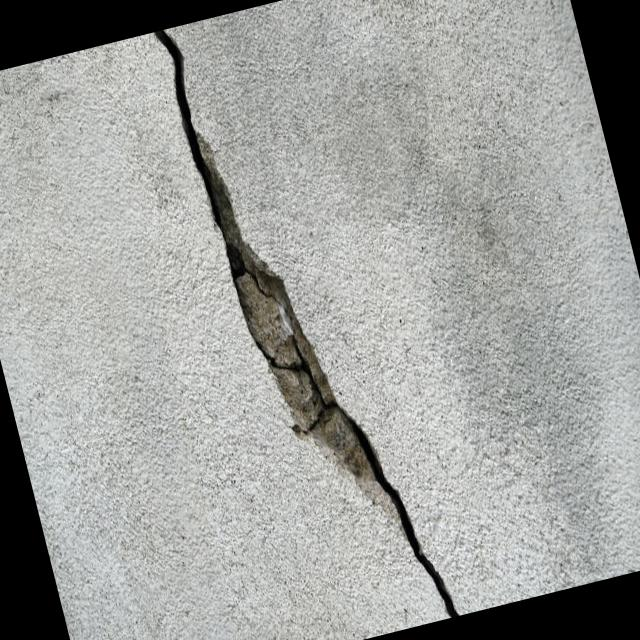crack: (153, 0, 457, 640)
